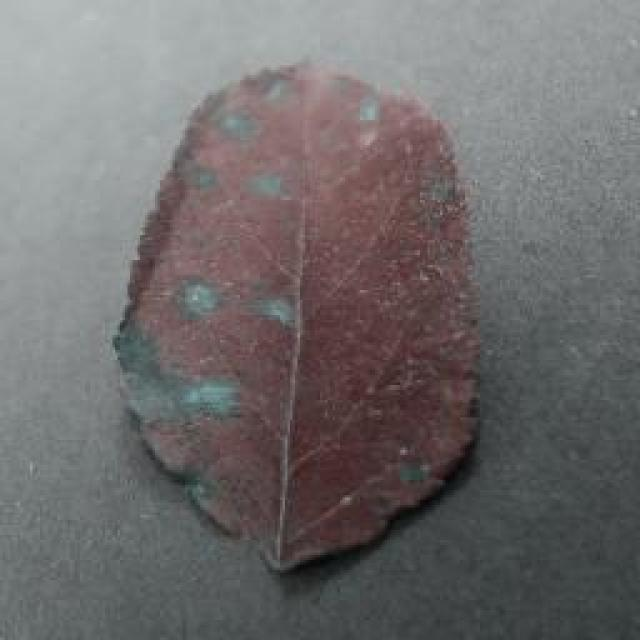apple cedar apple rust: (110, 58, 482, 572)
